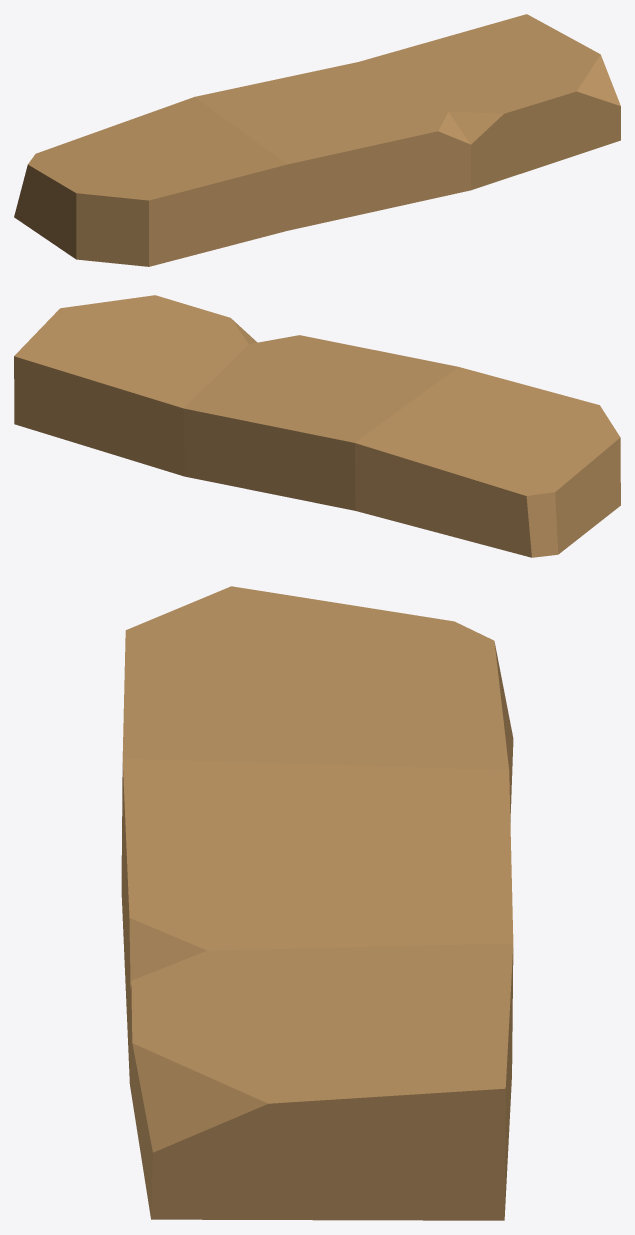
File: Stair_Single.fbx
The picture shows the model from 3 angles, top to bottom: view 1: azimuth 30°, elevation 25°; view 2: azimuth 150°, elevation 25°; view 3: azimuth 270°, elevation 25°; orthographic projection. The views are drawn at different scales.
Visible parts, largest first — view 1: Stair_Single; view 2: Stair_Single; view 3: Stair_Single.
Part boxes in pixels (x1,y1,x2,y2): Stair_Single: (14,14,620,266); Stair_Single: (14,295,620,557); Stair_Single: (121,586,513,1220).
Size of the model in its own units: 133 by 18.07 by 42.05.
